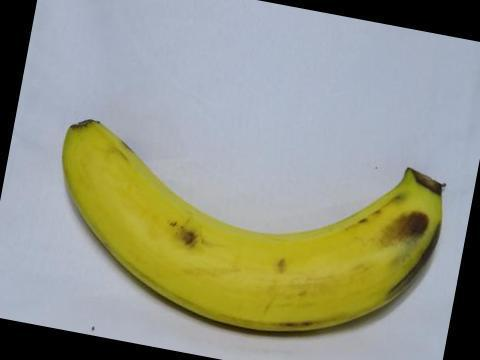freshripe: (52, 111, 460, 344)
